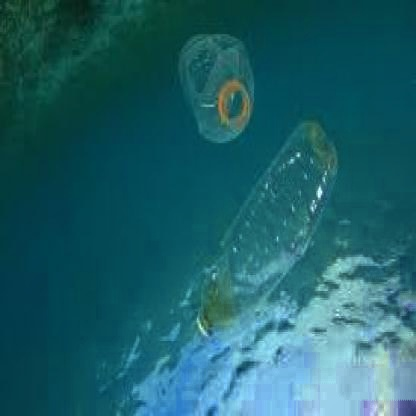pbottle: (189, 112, 343, 346), (168, 30, 259, 150)
